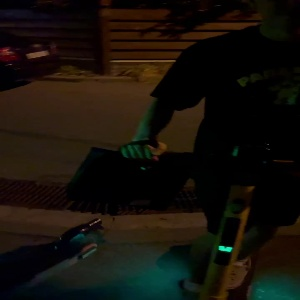human on a scooter: (56, 1, 300, 298)
